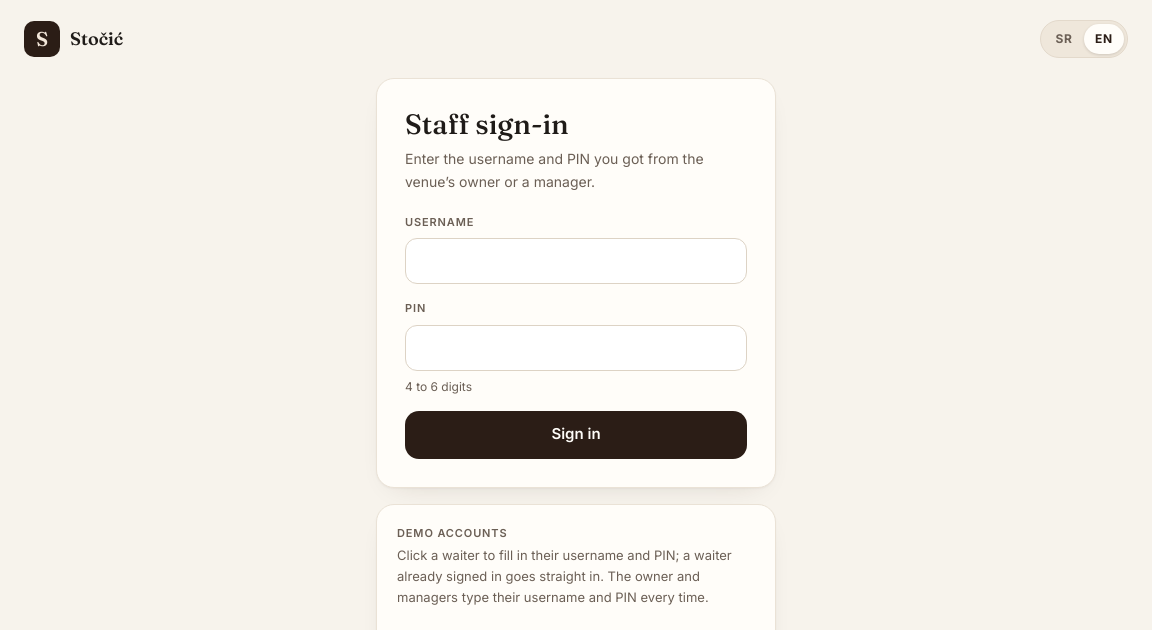
Test: staff › a manager goes back to the admin page they asked for
Expected: the heading "Staff sign-in" is shown, [405,107,569,141]
Type "Nikola" into the field labelled "Username" at (576, 261), box [405,238,747,284]
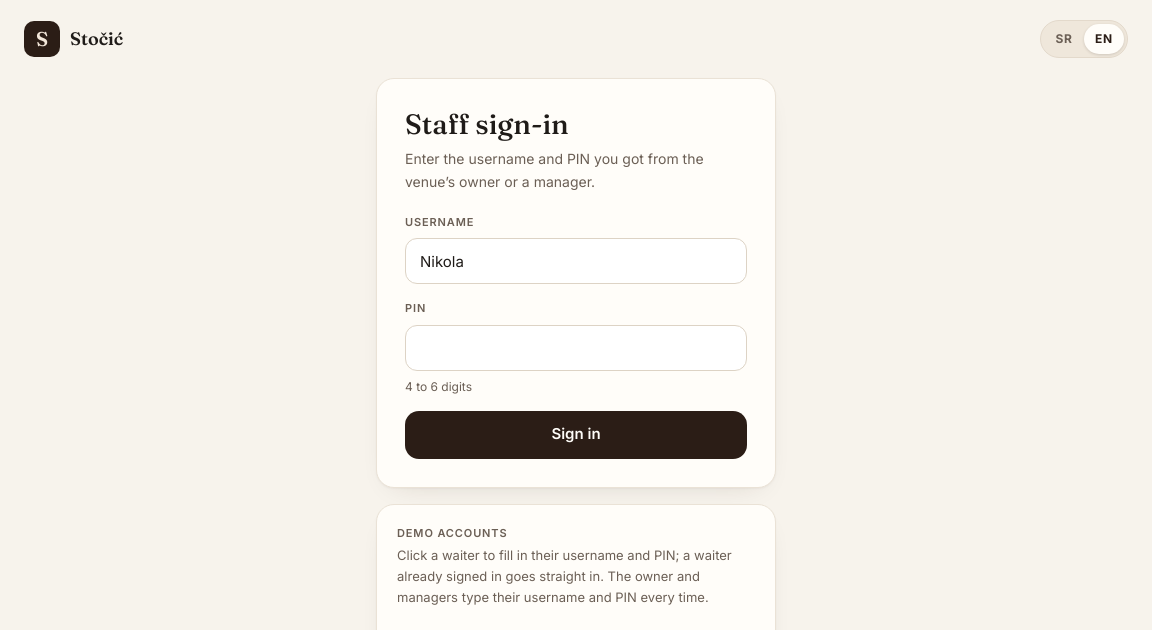
Type "573024" into the password field labelled "PIN" at (576, 348), box [405,324,747,370]
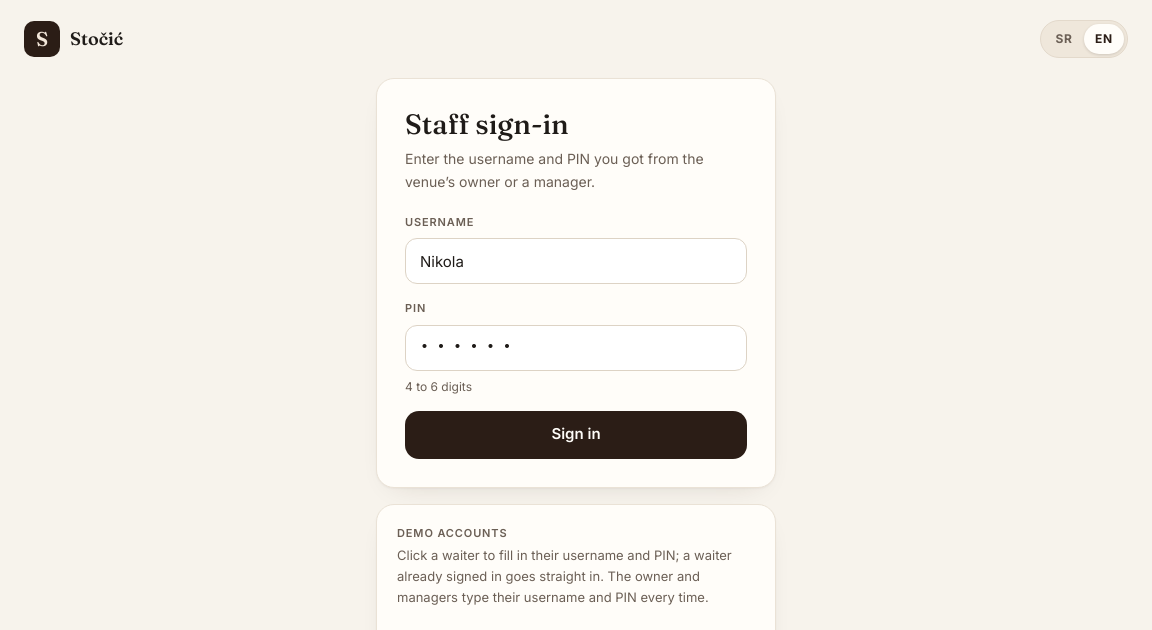
Click the button "Sign in" at (576, 434), box [405,410,747,458]
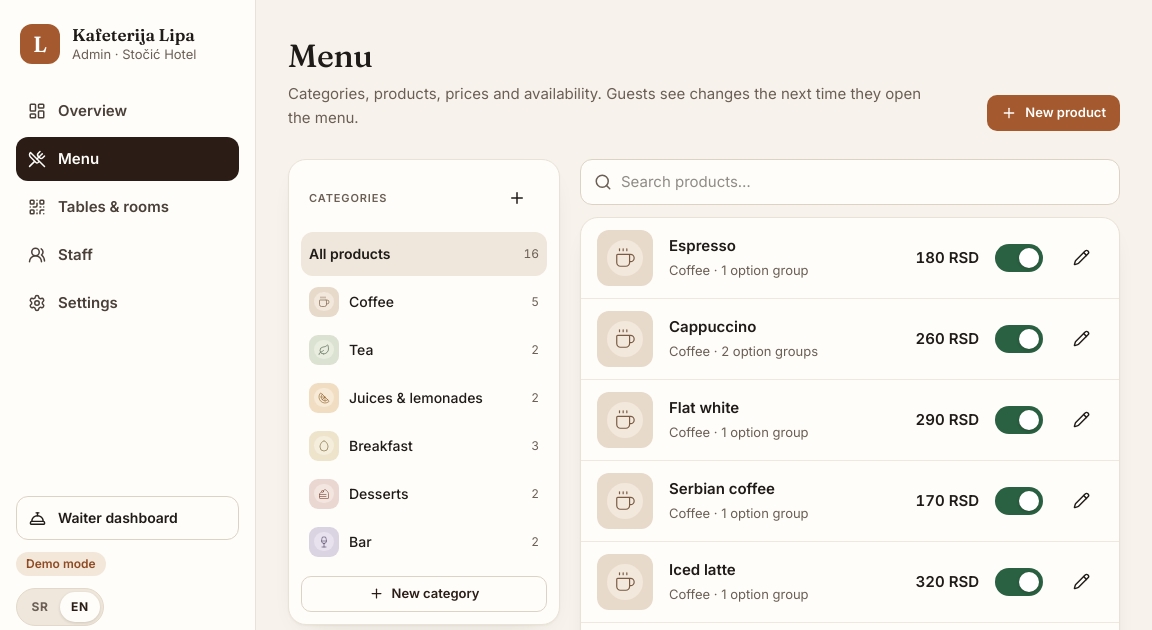
Now the text "Cappuccino" is shown, box [669,316,756,338]
